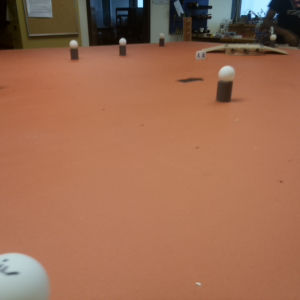blockA: (195, 50, 206, 63)
corner: (183, 16, 193, 45)
obstacle: (1, 251, 56, 300), (216, 65, 233, 102), (66, 39, 82, 62), (117, 36, 129, 55), (157, 32, 166, 47), (270, 33, 278, 44)
side: (227, 46, 261, 55)
slope: (262, 45, 287, 56), (206, 43, 225, 55)
start: (171, 74, 204, 84)
